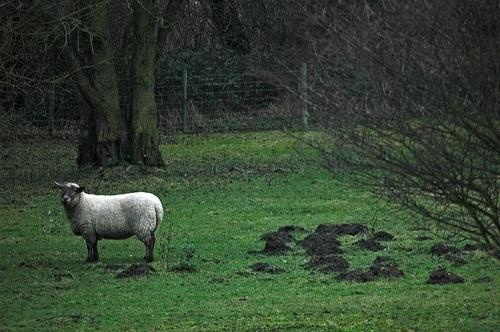sheep: (54, 183, 166, 262)
